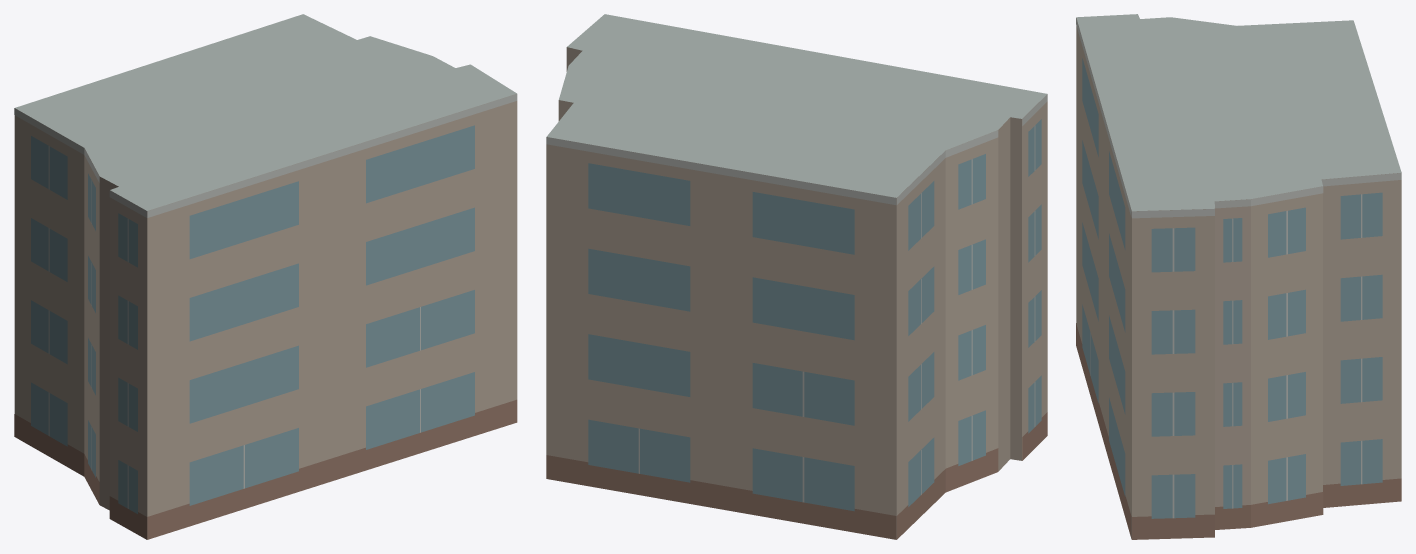
Rendered from survey-upis-32807343.glb.
3 views of the same model, side by side, from view 1: azimuth 30°, elevation 25°; view 2: azimuth 150°, elevation 25°; view 3: azimuth 270°, elevation 25° (orthographic). The views are drawn at different scales.
Parts seen in each view (by area): view 1: survey-upis-32807343.tmp; view 2: survey-upis-32807343.tmp; view 3: survey-upis-32807343.tmp.
Boxes of the visible parts, x1,y1,x2,y2 form: survey-upis-32807343.tmp: (14,14,517,539); survey-upis-32807343.tmp: (546,14,1047,539); survey-upis-32807343.tmp: (1076,14,1401,539).
Bounding box in the file's own units: 14.49 × 11.25 × 10.11.
